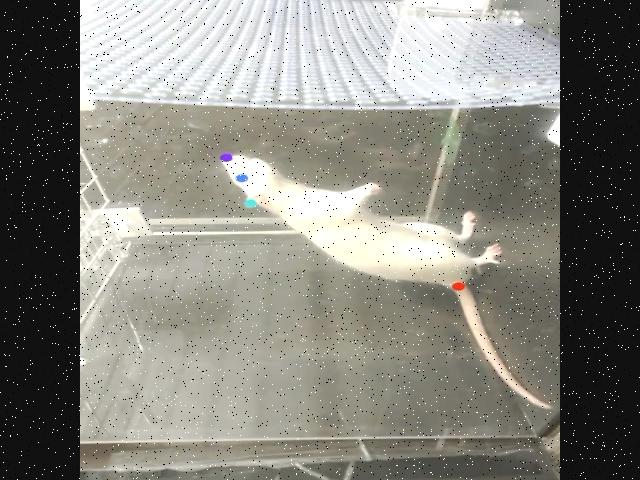Tikus: (222, 153, 548, 298)
